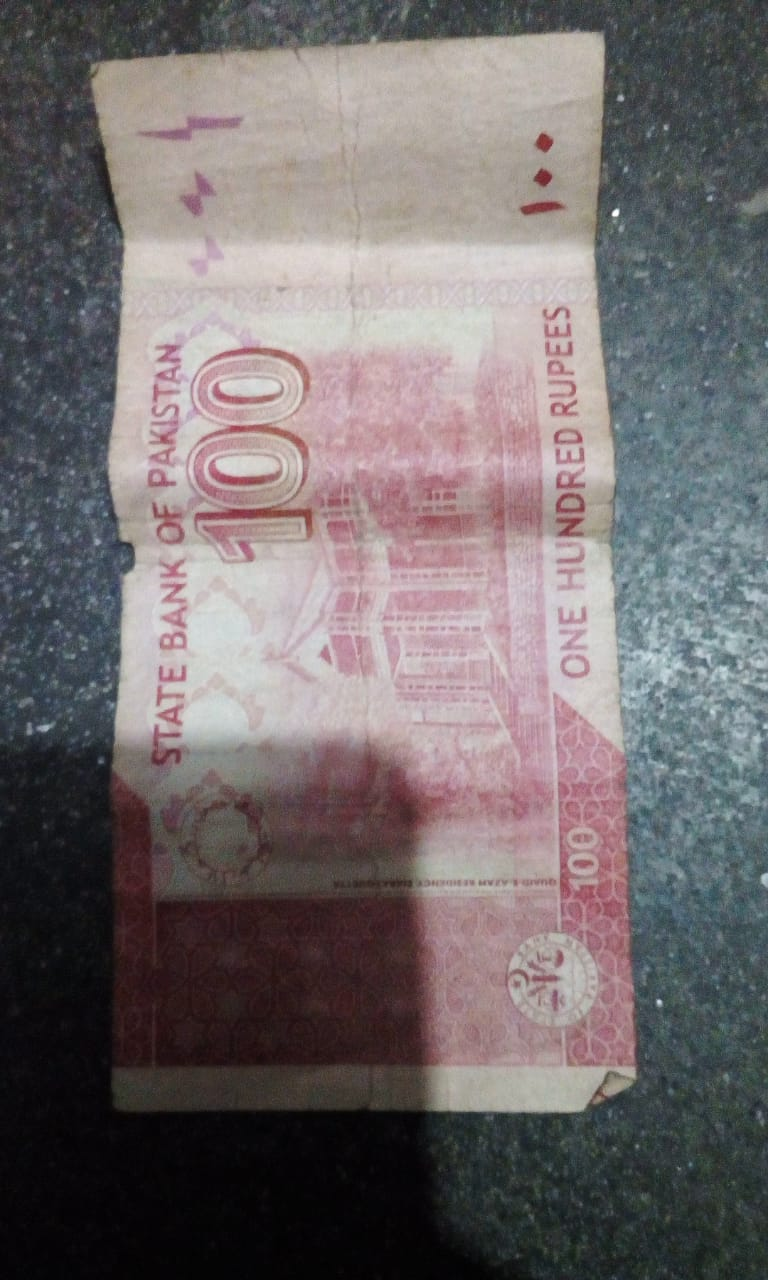100 rupee: (82, 35, 643, 1119)
